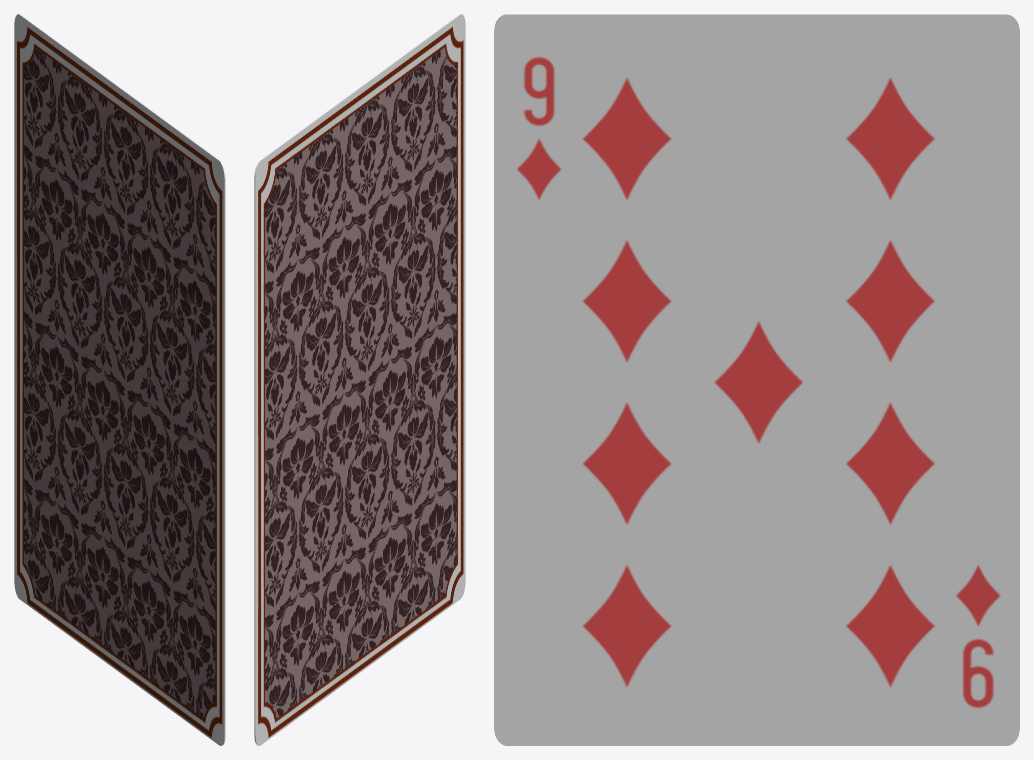
Rendered from diamond9.glb.
3 views of the same model, side by side, from view 1: azimuth 30°, elevation 25°; view 2: azimuth 150°, elevation 25°; view 3: azimuth 270°, elevation 25° (orthographic). The views are drawn at different scales.
Parts seen in each view (by area): view 1: Cube; view 2: Cube; view 3: Cube.
Boxes of the visible parts, <box> form: Cube: <box>14,14,225,745</box>; Cube: <box>254,14,465,745</box>; Cube: <box>494,14,1019,745</box>.
Bounding box in the file's own units: 0.036 × 17.8 × 11.6.
1 material, 1 textured.
